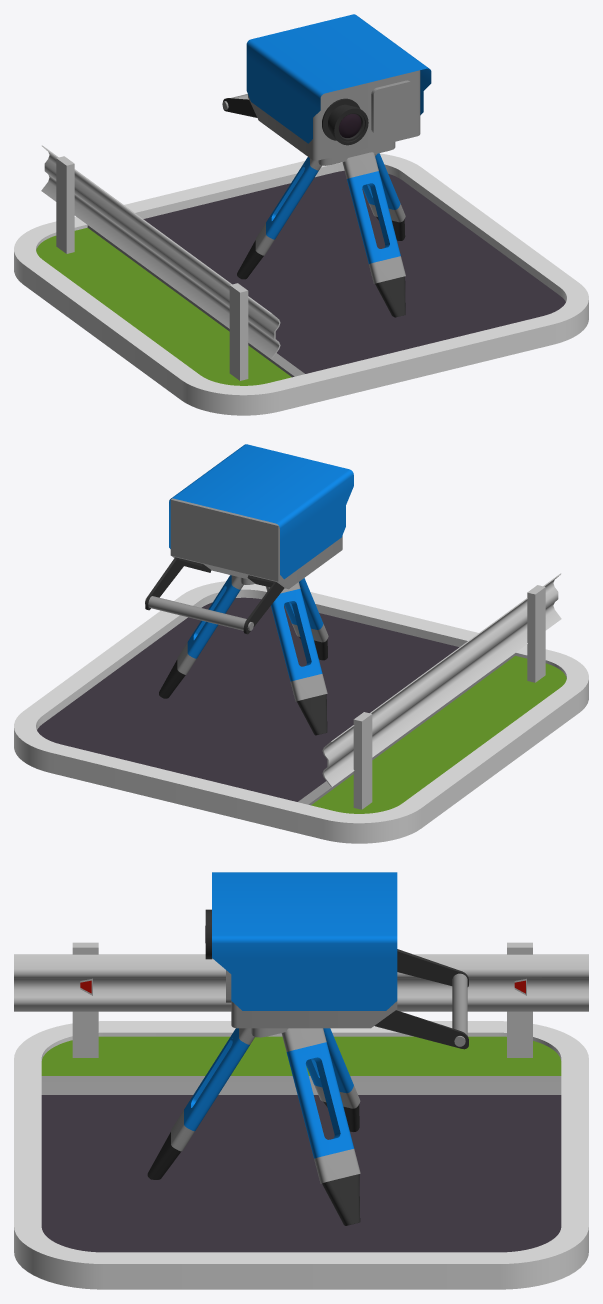
The model's file is Ангел.gltf.
3 renders of one model, top to bottom at view 1: azimuth 30°, elevation 25°; view 2: azimuth 150°, elevation 25°; view 3: azimuth 270°, elevation 25°, orthographic. The views are drawn at different scales.
Parts seen in each view (by area): view 1: Cube.007; view 2: Cube.007; view 3: Cube.007.
Part boxes in pixels (x1,y1,x2,y2): Cube.007: (14, 14, 588, 415); Cube.007: (14, 444, 588, 843); Cube.007: (14, 872, 588, 1289).
Size of the model in its own units: 6 by 3.31 by 6.
